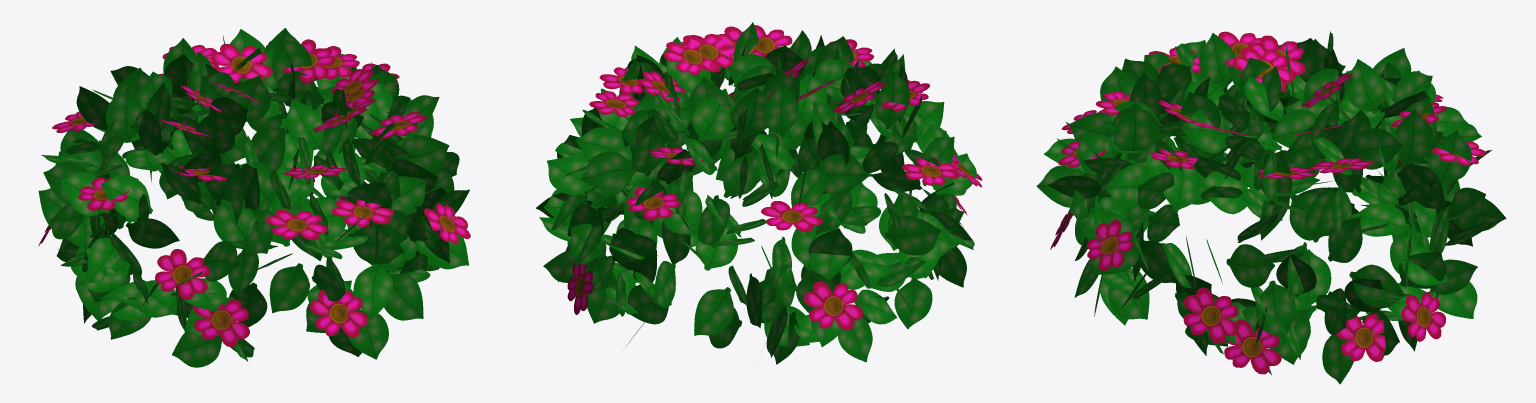
File: model_ArbustoFlorRosa_01.fbx
3 renders of one model, left to right at view 1: azimuth 30°, elevation 25°; view 2: azimuth 150°, elevation 25°; view 3: azimuth 270°, elevation 25°, orthographic.
Visible parts, largest first — view 1: BlushWithPinkFlowers; view 2: BlushWithPinkFlowers; view 3: BlushWithPinkFlowers.
Boxes of the visible parts, bbox=[...] form: BlushWithPinkFlowers: bbox=[38, 28, 470, 367]; BlushWithPinkFlowers: bbox=[536, 22, 982, 364]; BlushWithPinkFlowers: bbox=[1036, 31, 1506, 384].
Size of the model in its own units: 281 by 178 by 284.
